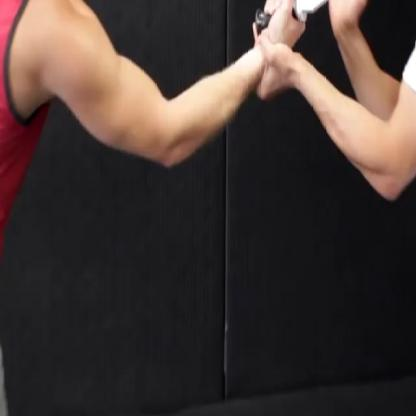knife: (247, 0, 372, 51)
